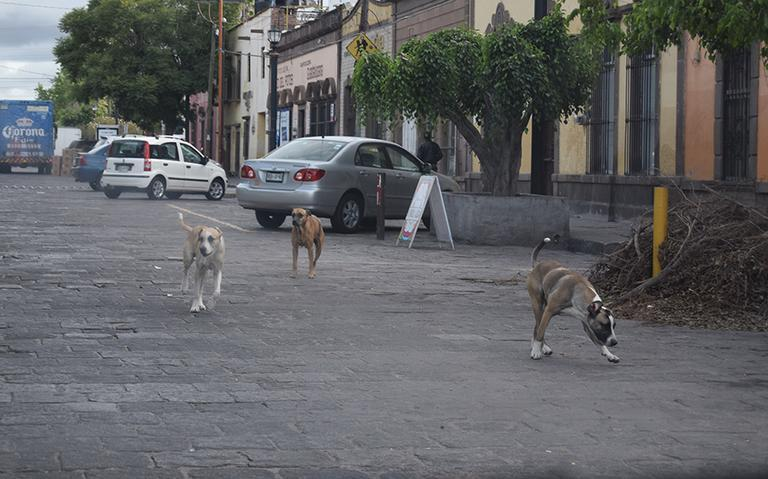dog_aggressive: (523, 230, 626, 370), (172, 208, 231, 322)
normal_dogs: (286, 203, 330, 280)
